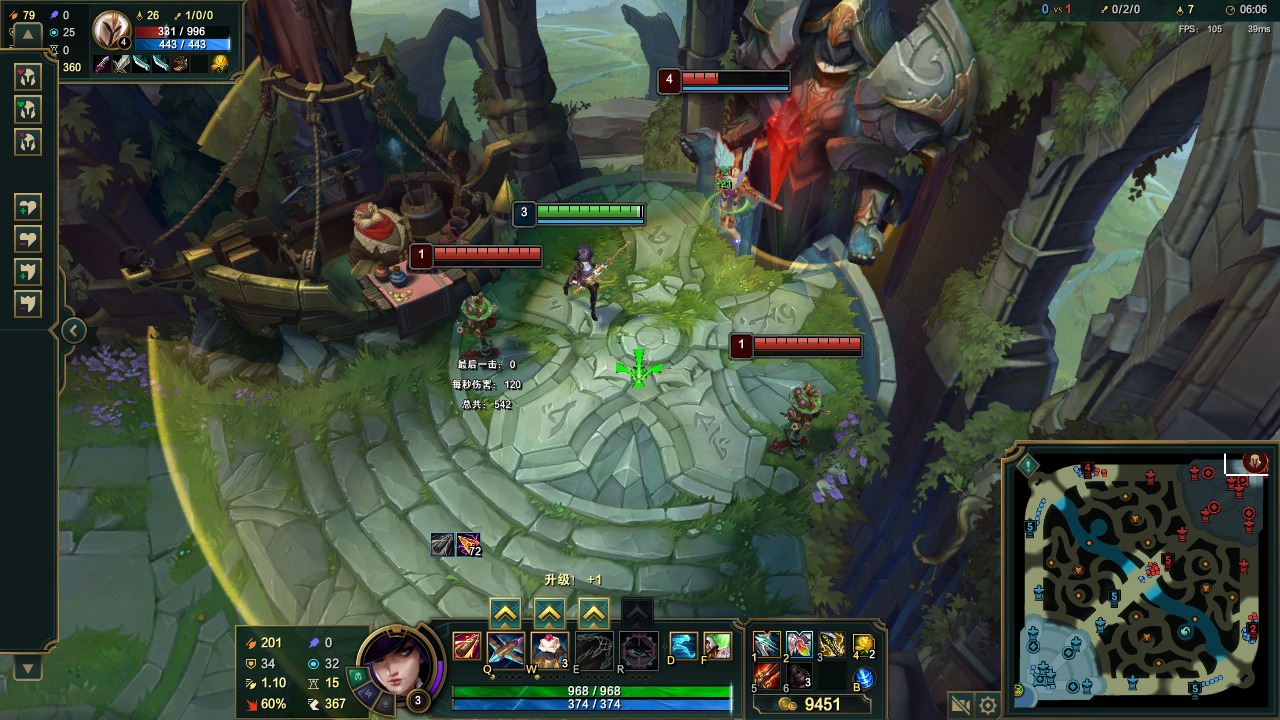DFYX: (683, 70, 793, 87), (433, 244, 542, 260), (756, 338, 863, 351)
